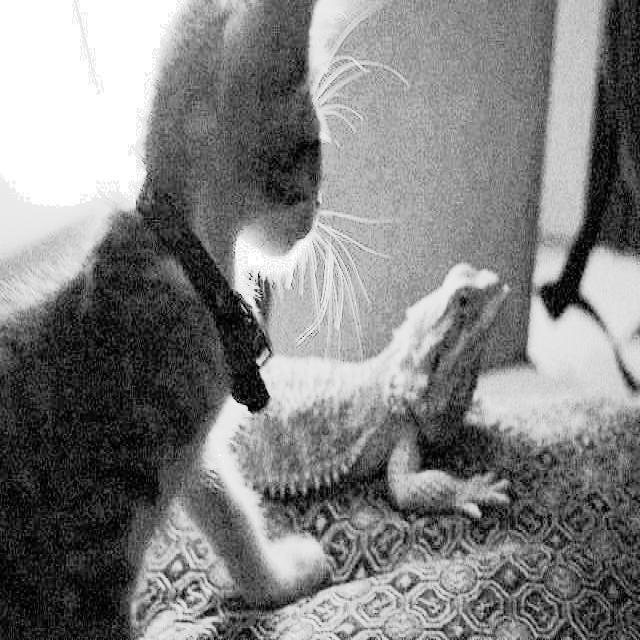Cat: (0, 13, 357, 640)
